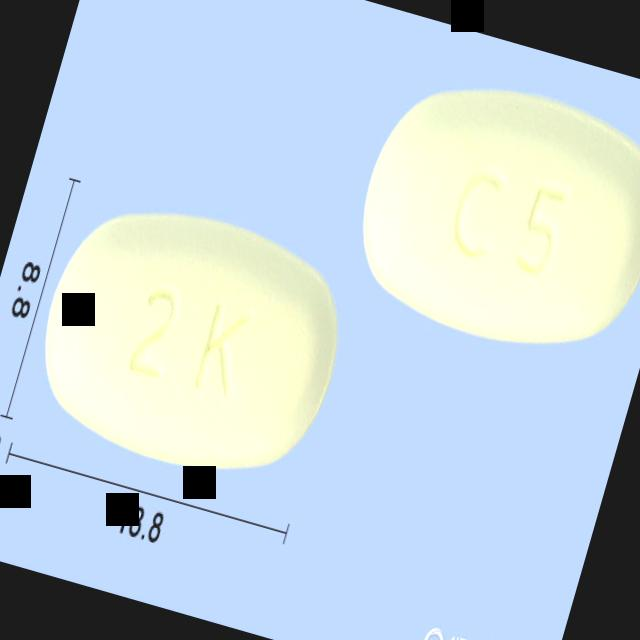Clithocin: (16, 180, 364, 503), (332, 53, 640, 376)
